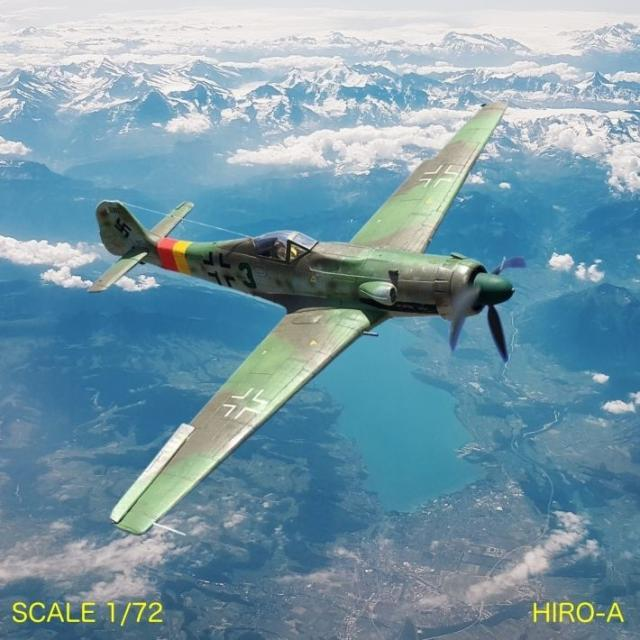iha: (86, 101, 528, 536)
